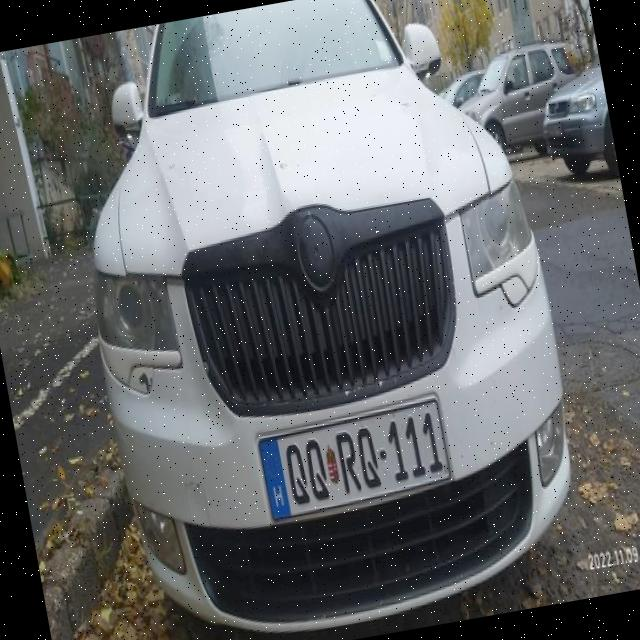licence: (251, 398, 455, 516)
